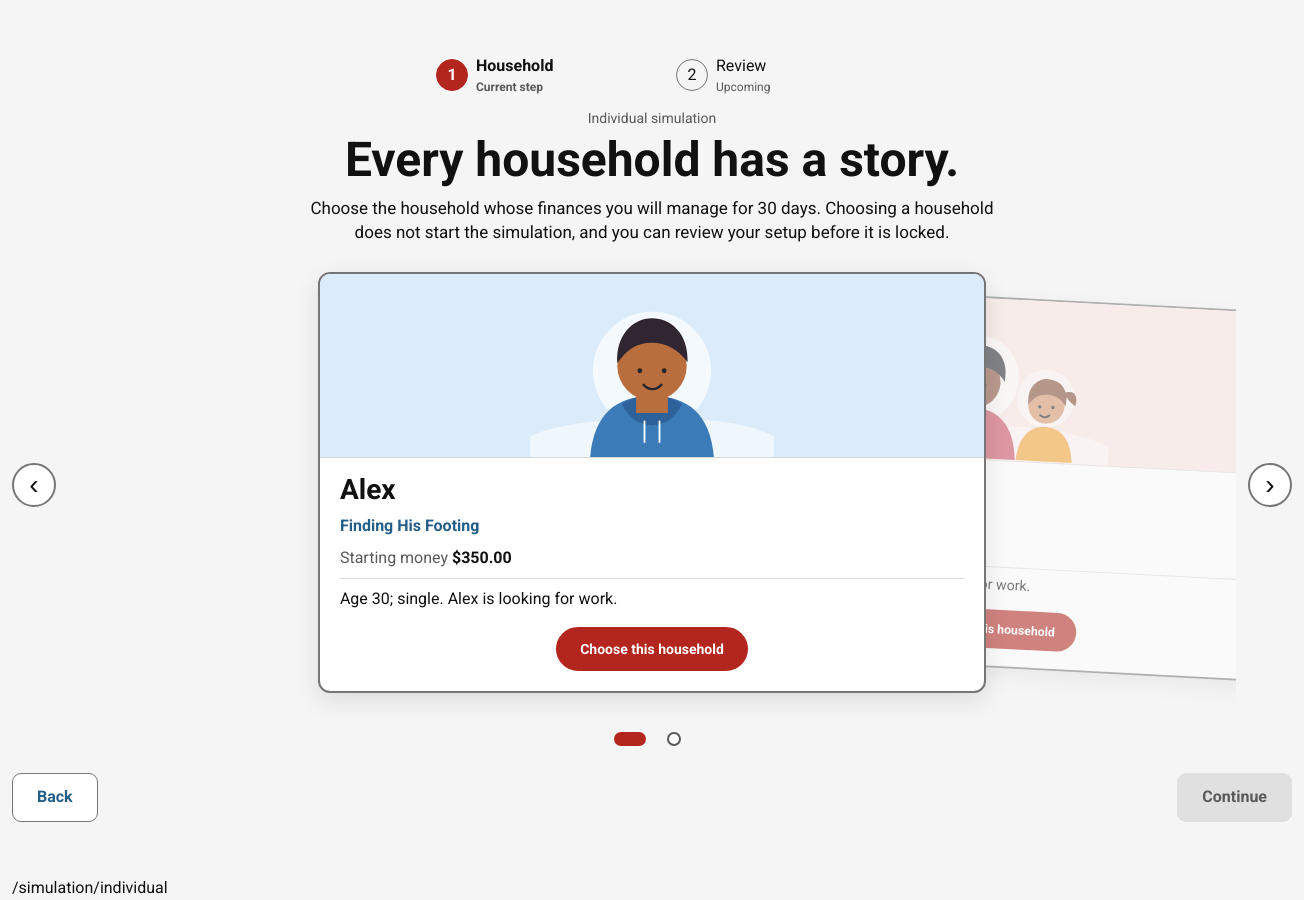
explains when the selected household is no longer published
What coordinates should you click on to do the following:
click the text "Choose this household" below "$350.00"
I would click on:
 (652, 650)
Its box is x1=556 y1=628 x2=748 y2=672.
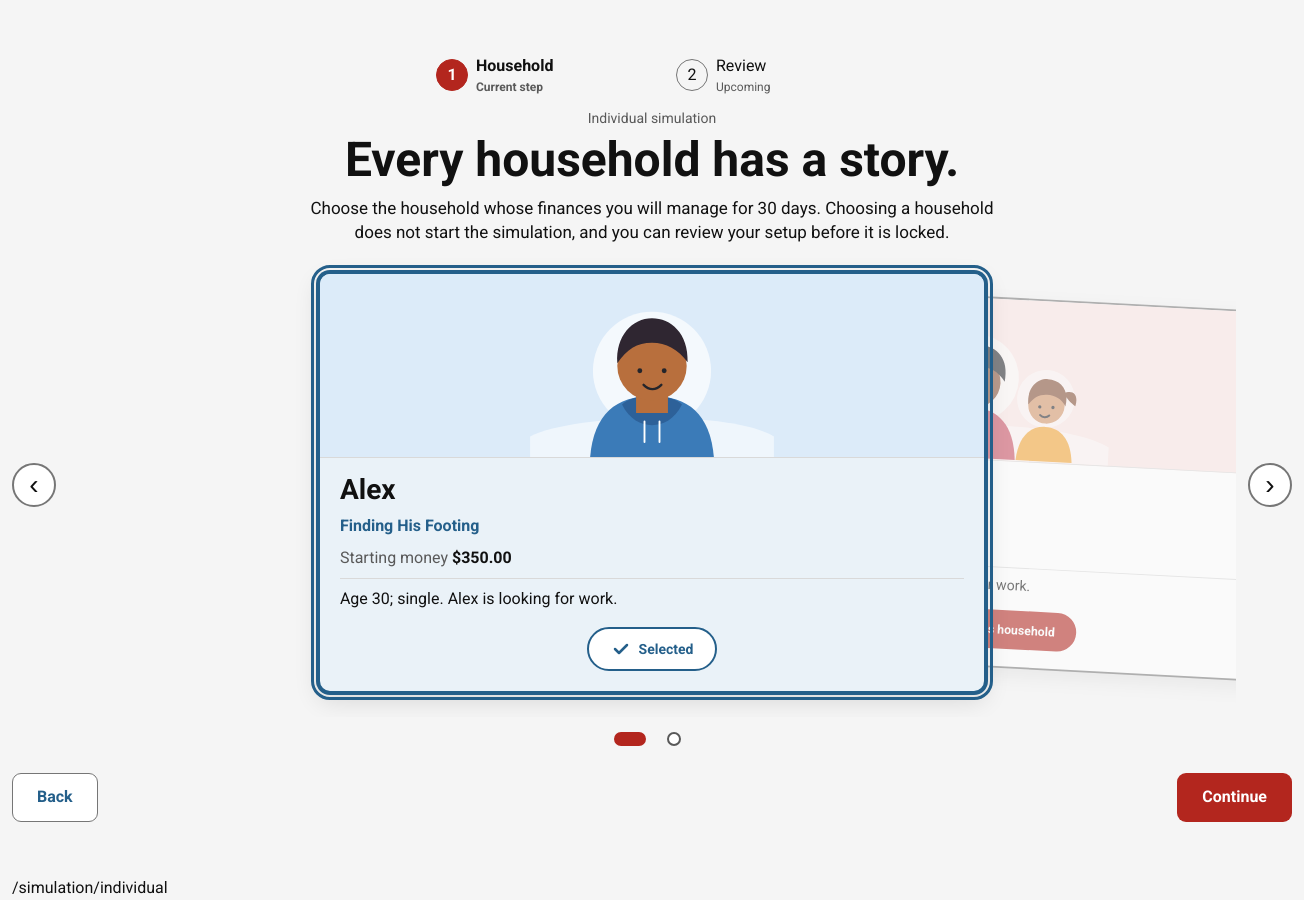
What coordinates should you click on to do the following:
click the button "Continue"
I would click on:
 (1235, 798)
Its box is x1=1177 y1=774 x2=1292 y2=822.
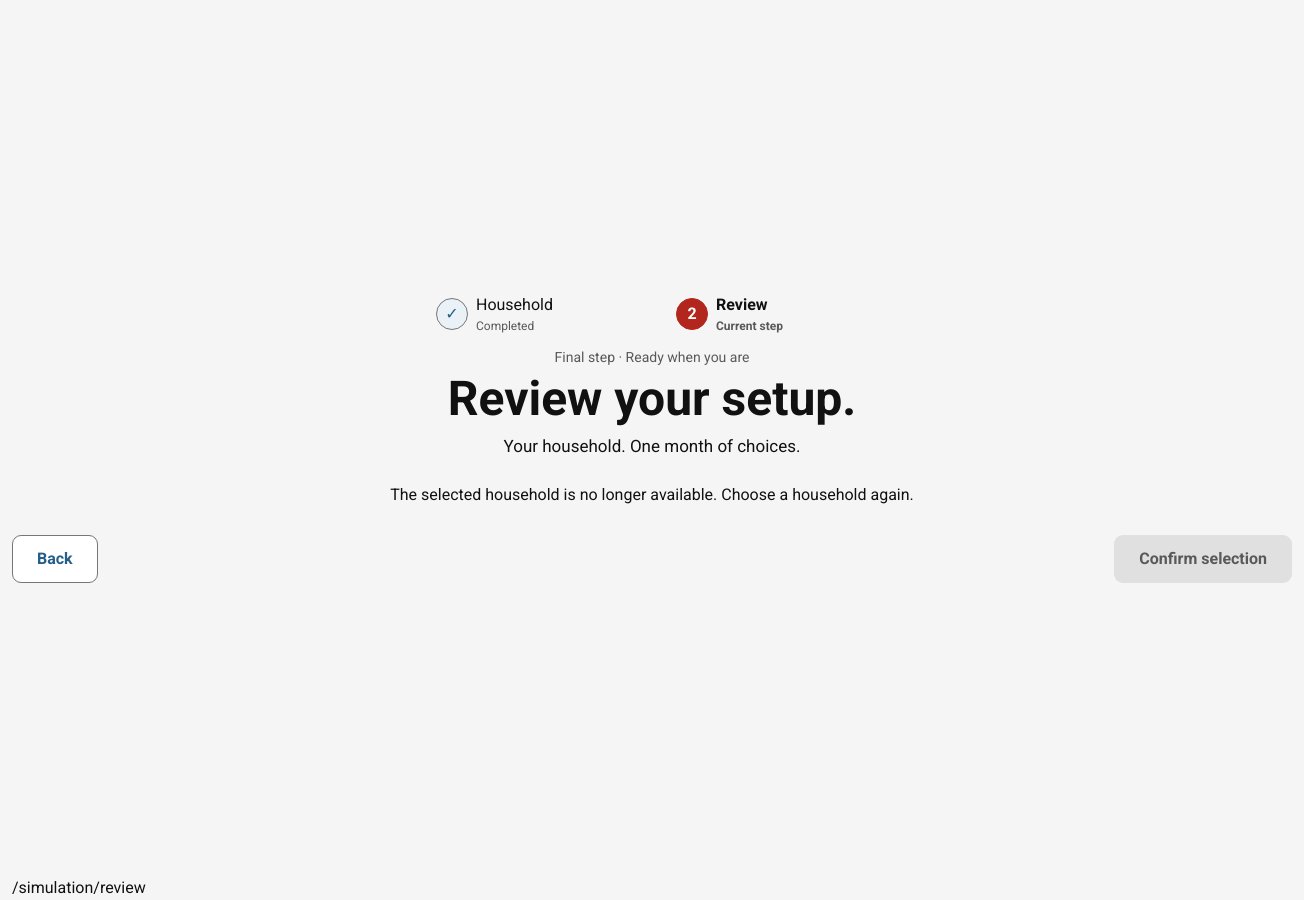
Now the text "selected household is no longer available" is shown, box x1=390 y1=485 x2=914 y2=504
Now the button "Confirm selection" is disabled, box x1=1114 y1=535 x2=1292 y2=583
